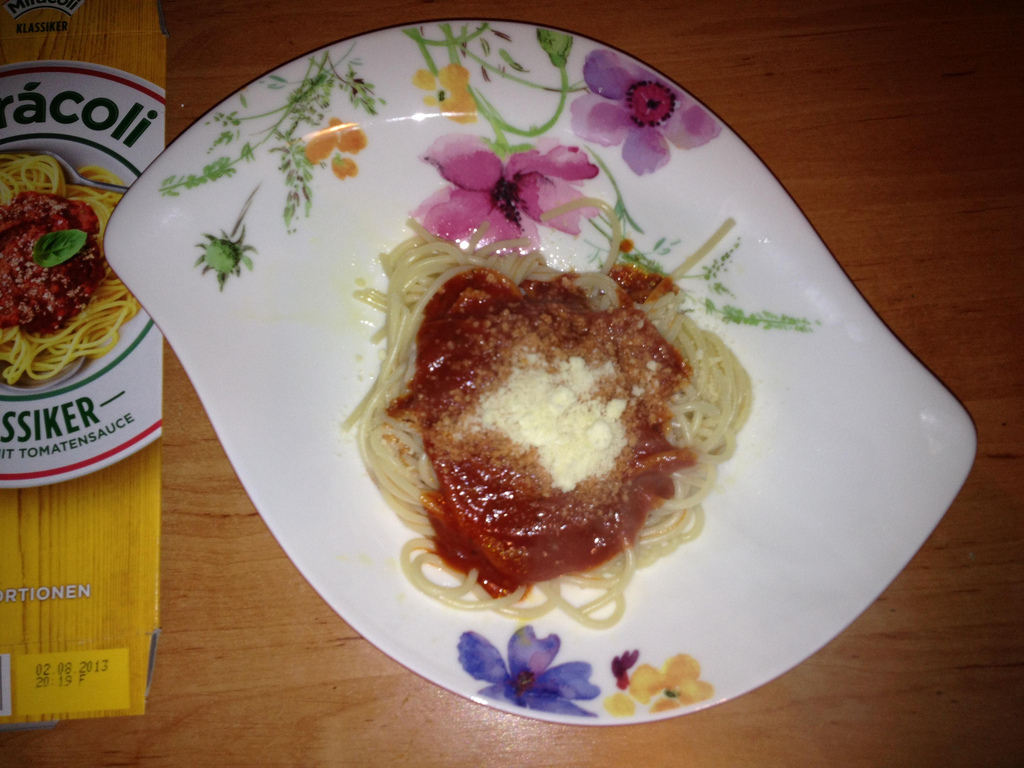plain spaghetti: (350, 208, 760, 629)
